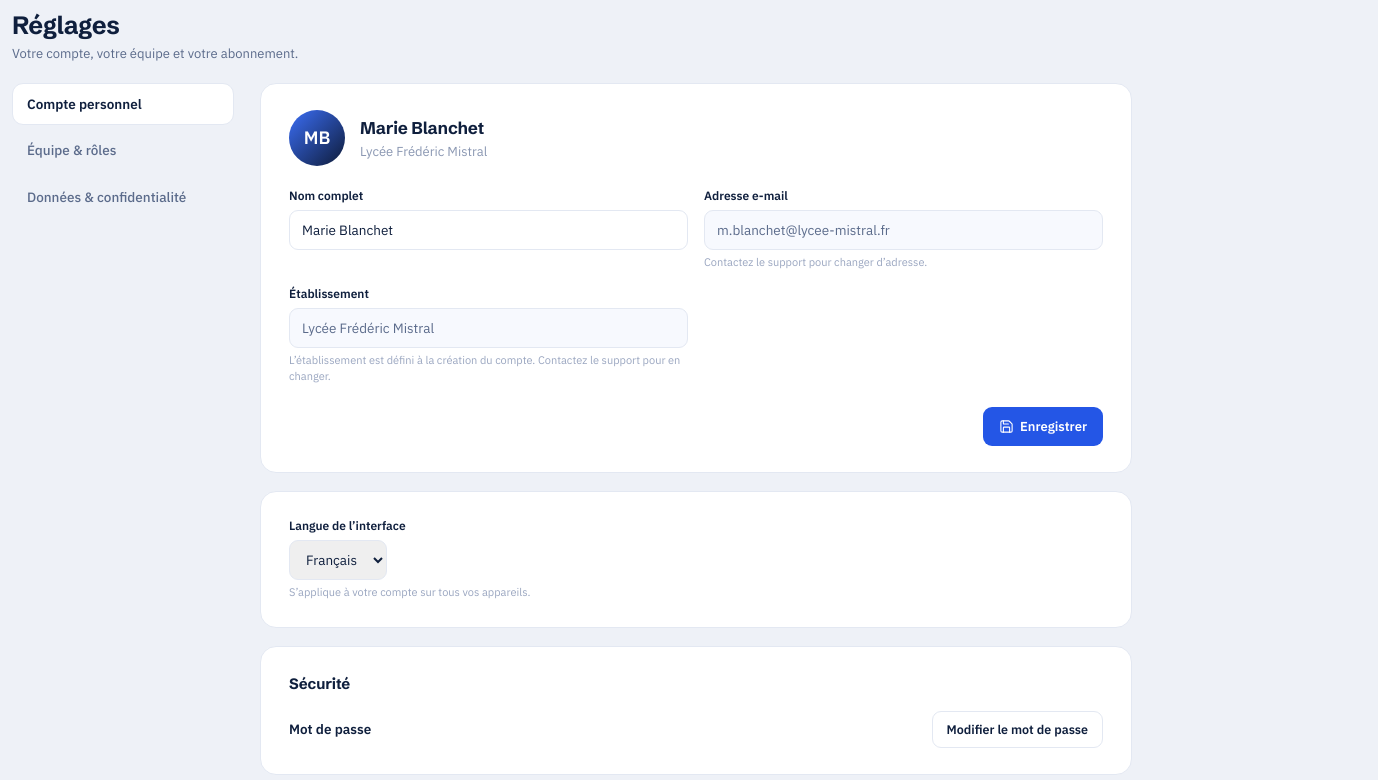
Test: SettingsView — Compte › saves only the full name, and flashes confirmation
Replace the text in the field labelled "Nom complet" with "Marie B. Blanchet" at (488, 230), box 289,210 -> 688,250
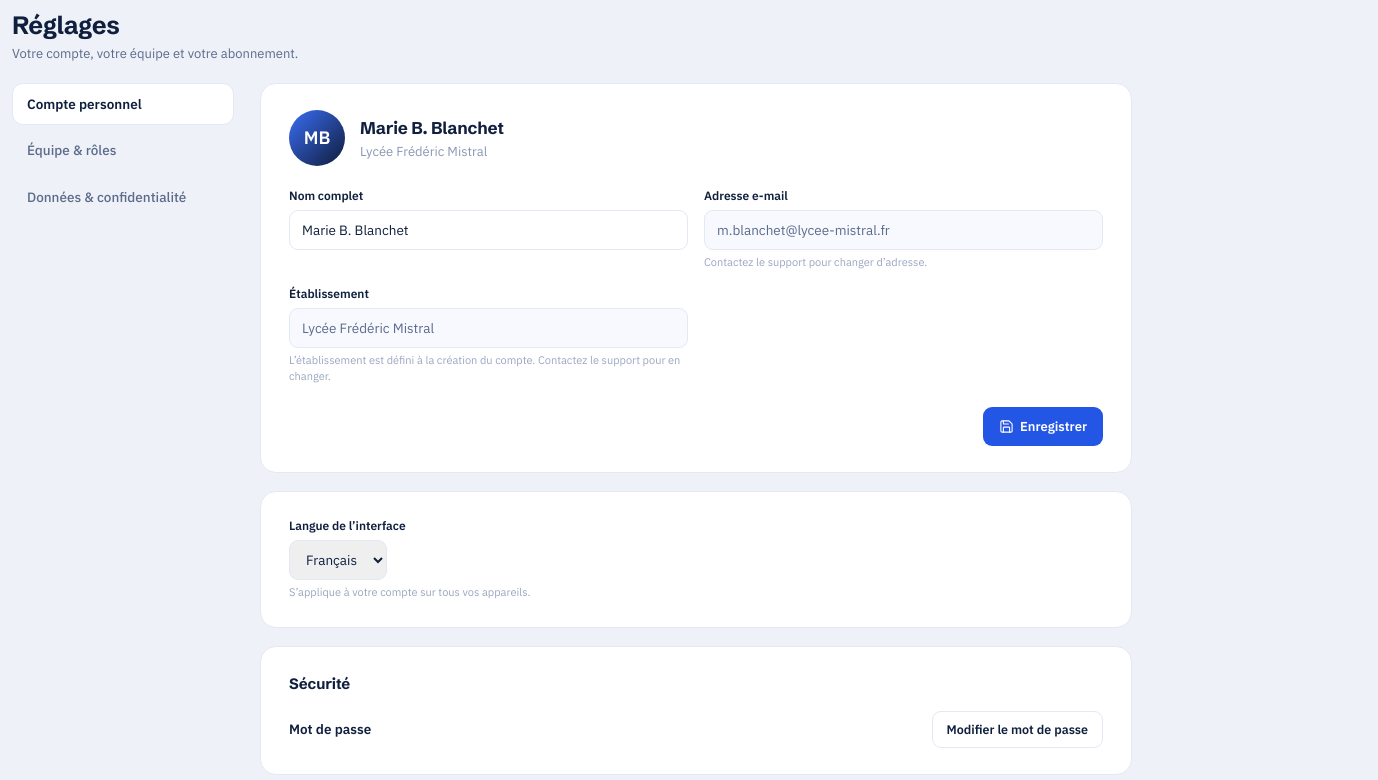
Click the button "Enregistrer" at (1043, 426), box 983,406 -> 1103,446
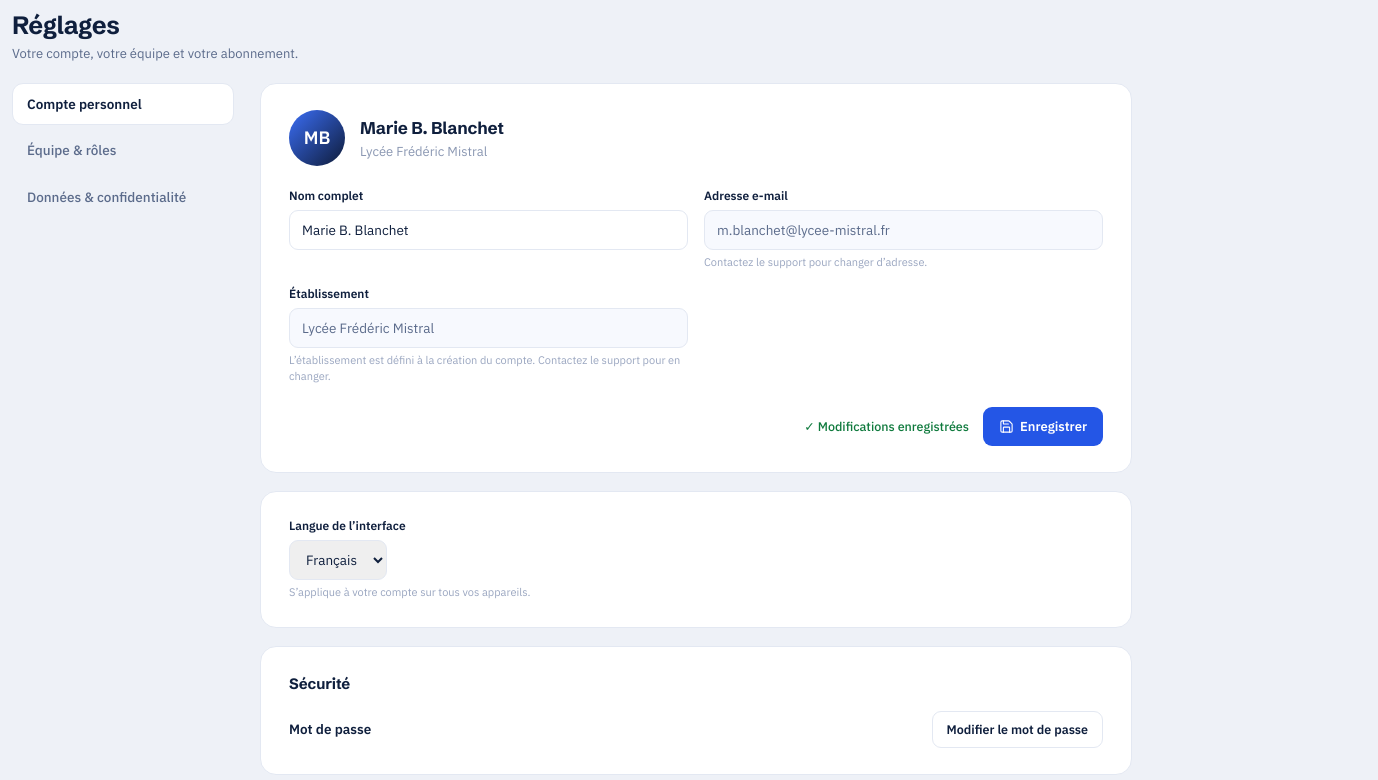
expect the text "✓ Modifications enregistrées" is shown: met, box 804,417 -> 969,436
